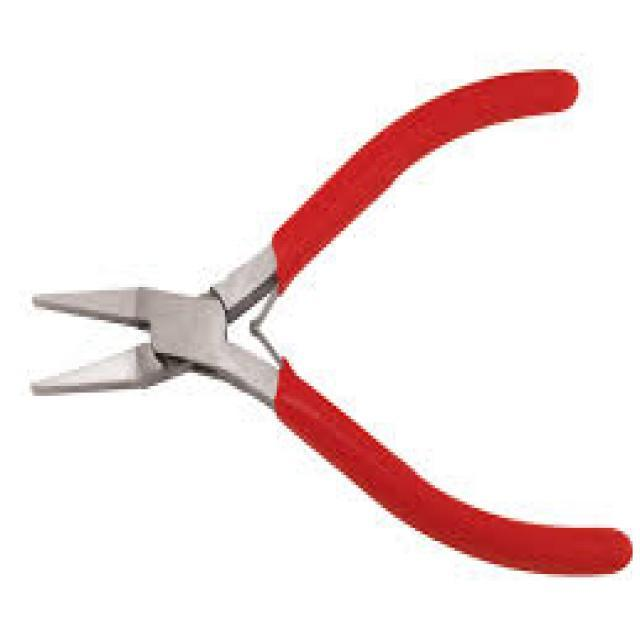pliers: (25, 64, 640, 582)
